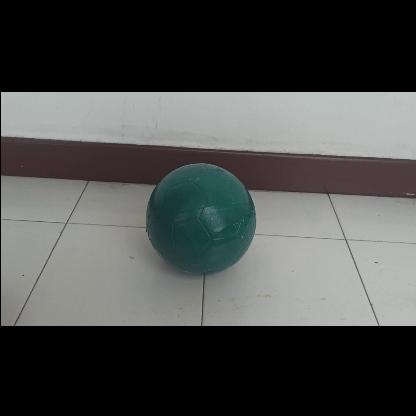green_ball: (146, 163, 256, 273)
